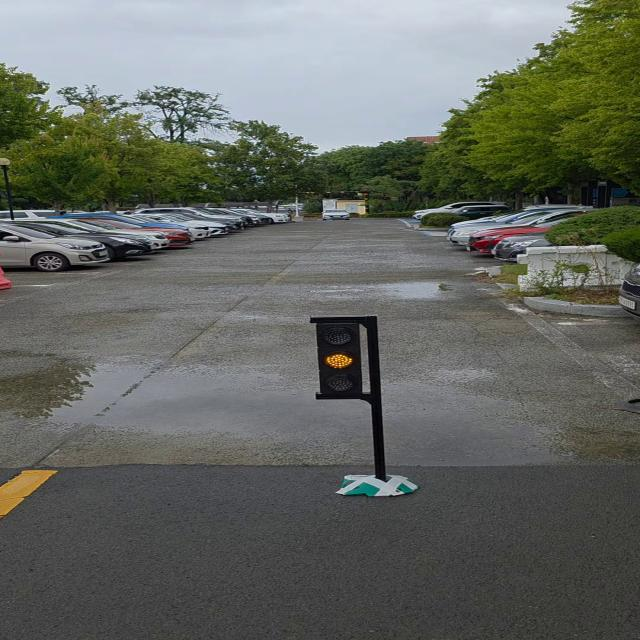yellow: (314, 318, 372, 401)
